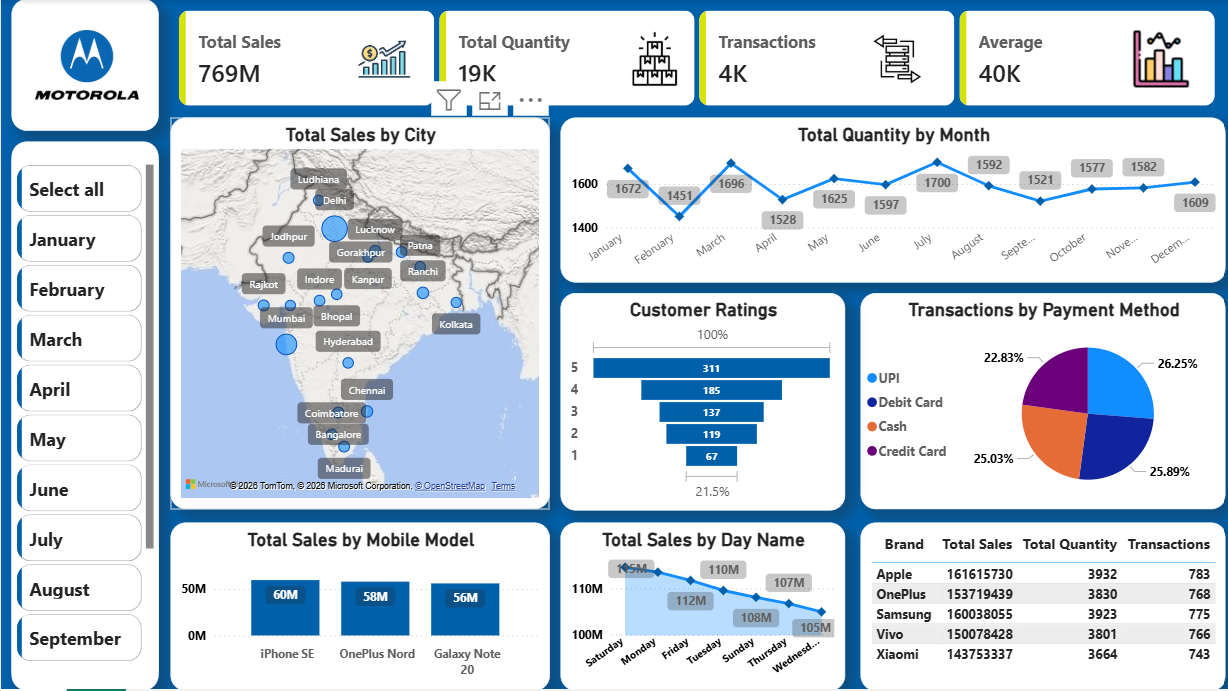

This screenshot's page, from the dashboard's own definition file:
{"tool":"powerbi","page":{"name":"Page 1","canvas":[1280,720],"ordinal":0},"visuals":[{"type":"shape","box":[10.9,0,153.2,137.5],"z":0},{"type":"shape","box":[10.9,148.5,153.2,572.1],"z":1000},{"type":"advancedSlicerVisual","fields":{"Values":["Sales_data.Date.Variation.Date Hierarchy.Month"]},"box":[10.9,167.2,153.2,534.5],"z":2000},{"type":"cardVisual","fields":{"Data":["Sales_data.Total Sales","Sales_data.Total Quantity","Sales_data.Transactions","Sales_data.Average"]},"box":[173.5,0,1103.5,123.5],"z":3000},{"type":"image","box":[356.4,20.3,86,84.4],"z":4000},{"type":"image","box":[650.2,32.8,62.5,59.4],"z":5000},{"type":"image","box":[1178.5,32.8,61,59.4],"z":6000},{"type":"map","fields":{"Category":["Sales_data.City"],"Size":["Sales_data.Total Sales"]},"box":[176.6,123.5,395.4,407.9],"z":7000},{"type":"image","box":[21.9,0,134.4,137.5],"z":8000},{"type":"lineChart","fields":{"Category":["Sales_data.Date.Variation.Date Hierarchy.Month","Sales_data.Date.Variation.Date Hierarchy.Day"],"Y":["Sales_data.Total Quantity"]},"box":[583,123.5,694,171.9],"z":9000},{"type":"clusteredColumnChart","fields":{"Category":["Sales_data.Mobile Model"],"Y":["Sales_data.Total Sales"]},"box":[176.6,545.5,395.4,175.1],"z":10000},{"type":"pieChart","fields":{"Category":["Sales_data.Payment Method"],"Y":["Sales_data.Transactions"]},"box":[895.6,306.3,381.4,225.1],"z":11000},{"type":"funnel","title":" Customer Ratings","fields":{"Category":["Sales_data.Customer Ratings"],"Y":["CountNonNull(Sales_data.Customer Ratings)"]},"box":[583,306.3,297,226.6],"z":12000},{"type":"areaChart","fields":{"Category":["Sales_data.Day Name"],"Y":["Sales_data.Total Sales"]},"box":[583,545.5,297,175.1],"z":13000},{"type":"tableEx","fields":{"Values":["Sales_data.Brand","Sales_data.Total Sales","Sales_data.Total Quantity","Sales_data.Transactions"]},"box":[895.6,545.5,381.4,175.1],"z":14000},{"type":"image","box":[895.6,21.9,76.6,81.3],"z":14001}]}

Visuals, with their boxes in screenshot pixels (x1, y1, x2, y2), scaled from the page's 1280x720 canvas onto the 1228x691 screenshot:
shape: (10, 0, 157, 132)
shape: (10, 143, 157, 690)
advancedSlicerVisual - Sales_data.Date.Variation.Date Hierarchy.Month: (10, 160, 157, 673)
cardVisual - Sales_data.Total Sales x Sales_data.Total Quantity: (166, 0, 1225, 119)
image: (342, 19, 424, 100)
image: (624, 31, 684, 88)
image: (1131, 31, 1189, 88)
map - Sales_data.City x Sales_data.Total Sales: (169, 119, 549, 510)
image: (21, 0, 150, 132)
lineChart - Sales_data.Date.Variation.Date Hierarchy.Month x Sales_data.Date.Variation.Date Hierarchy.Day: (559, 119, 1225, 284)
clusteredColumnChart - Sales_data.Mobile Model x Sales_data.Total Sales: (169, 524, 549, 690)
pieChart - Sales_data.Payment Method x Sales_data.Transactions: (859, 294, 1225, 510)
" Customer Ratings" funnel: (559, 294, 844, 511)
areaChart - Sales_data.Day Name x Sales_data.Total Sales: (559, 524, 844, 690)
tableEx - Sales_data.Brand x Sales_data.Total Sales: (859, 524, 1225, 690)
image: (859, 21, 933, 99)
